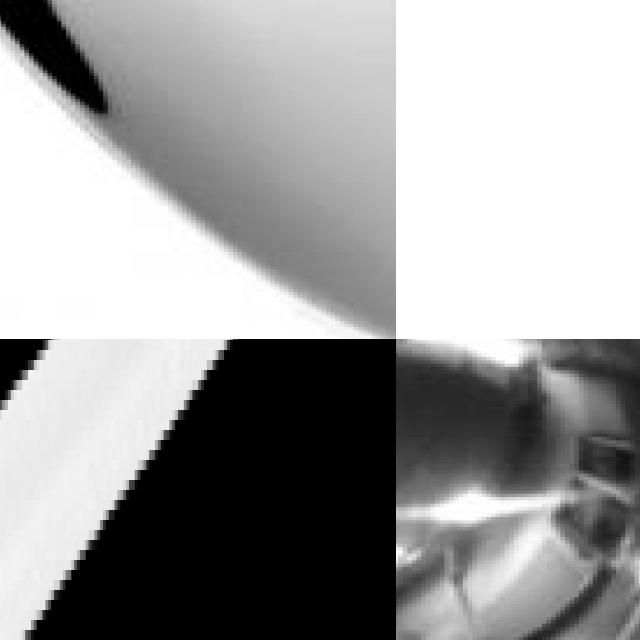spoons: (0, 0, 396, 339), (396, 339, 640, 640)
